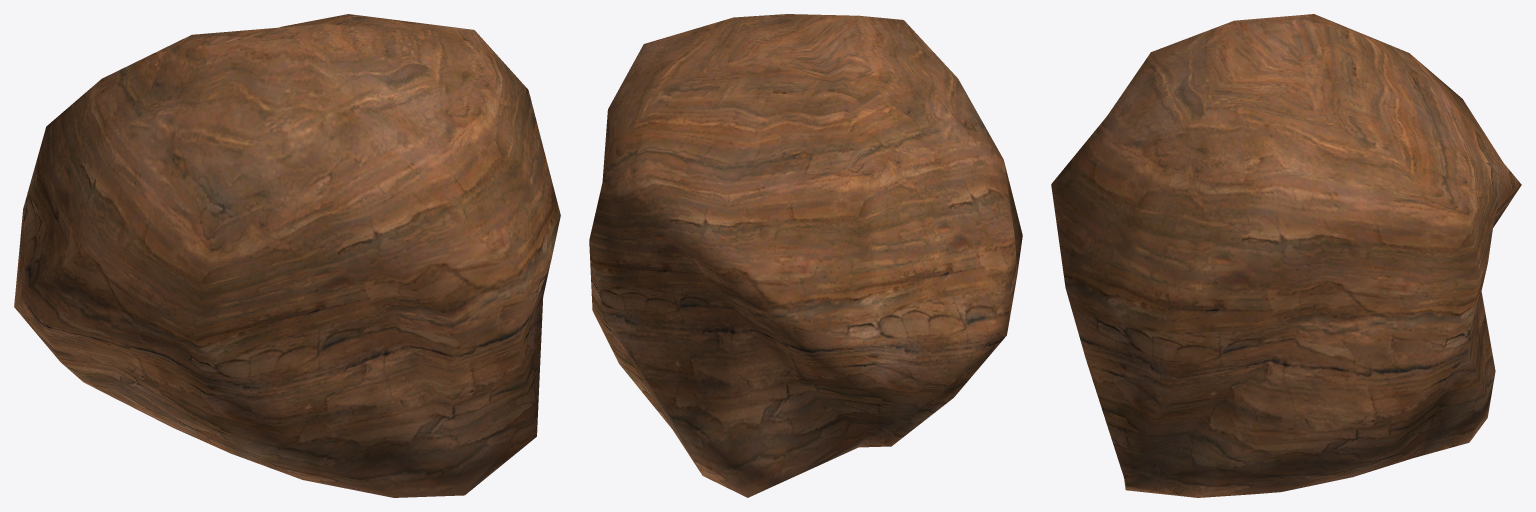
Rendered from rock_tatt_jundland_boulder_a5_l1.fbx.
The picture shows the model from 3 angles, left to right: view 1: azimuth 30°, elevation 25°; view 2: azimuth 150°, elevation 25°; view 3: azimuth 270°, elevation 25°; orthographic projection. The views are drawn at different scales.
Visible parts, largest first — view 1: mesh_node; view 2: mesh_node; view 3: mesh_node.
Part boxes in pixels (x1,y1,x2,y2): mesh_node: (14,14,560,497); mesh_node: (589,14,1022,497); mesh_node: (1051,14,1521,497).
Size of the model in its own units: 2.74 by 2.57 by 2.63.
